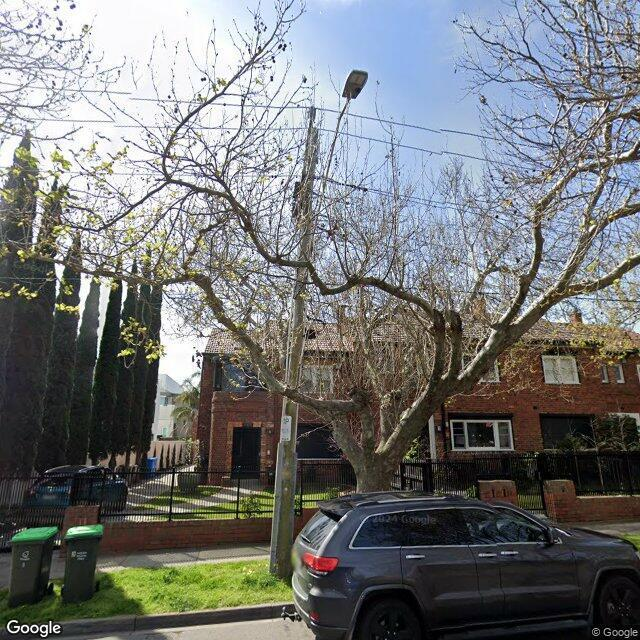streetlight: (304, 69, 369, 288)
timber-pole: (268, 127, 321, 579)
